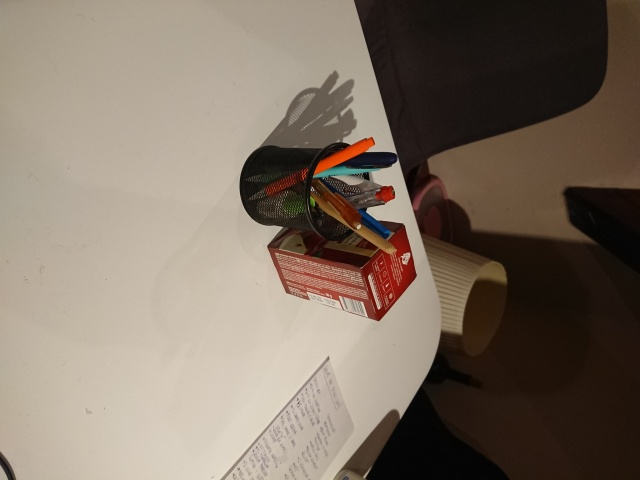Franck Apple Cinnamon Tea 60g: (264, 205, 421, 325)
